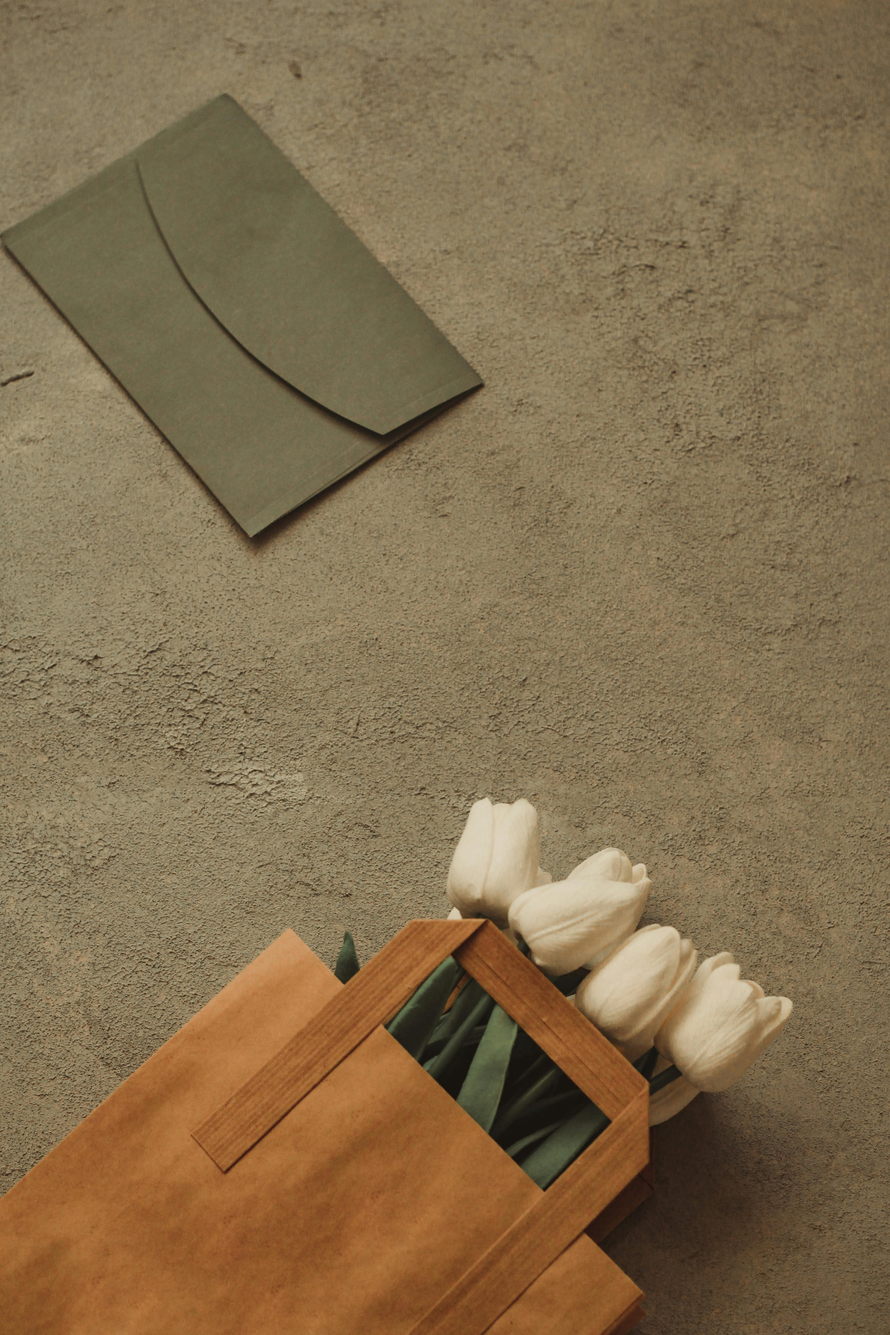paper: (4, 90, 486, 539)
